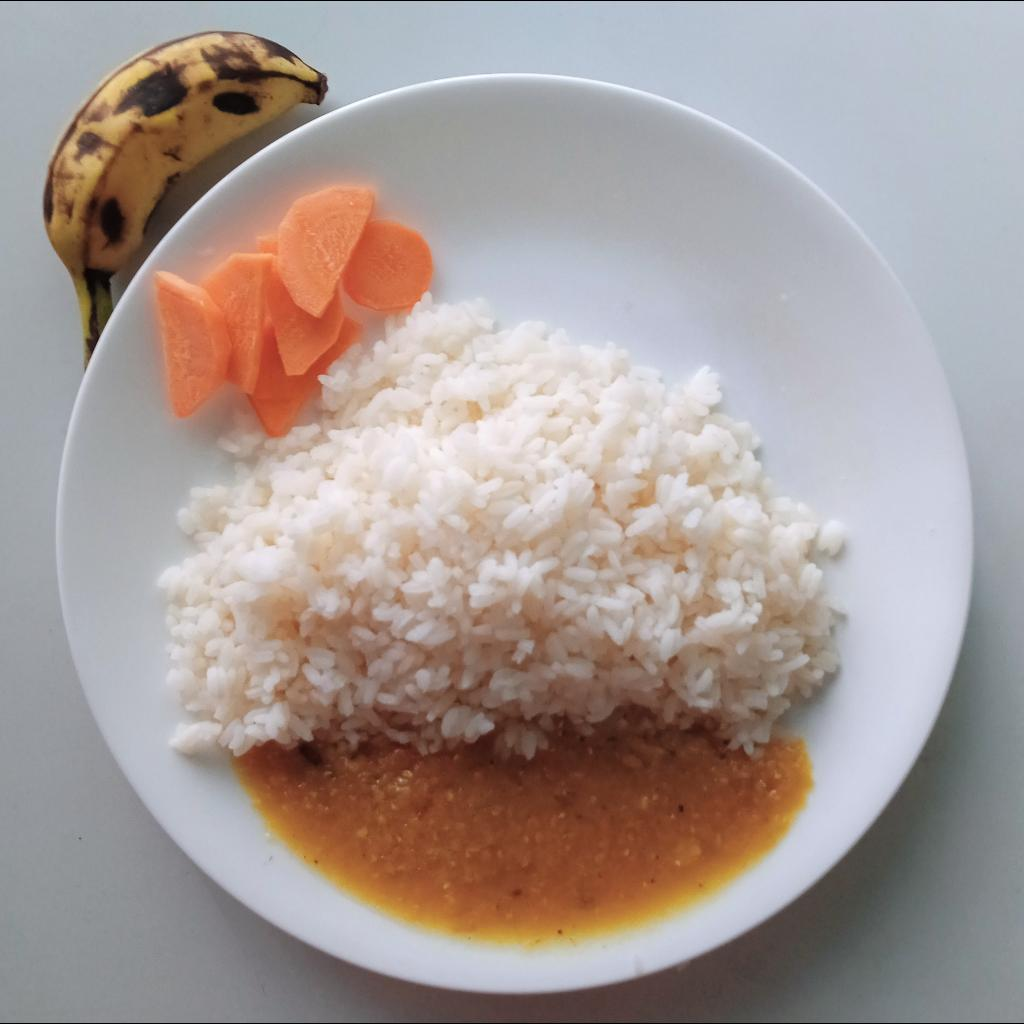banana: (44, 30, 329, 364)
carrot: (154, 189, 434, 436)
daal: (232, 720, 813, 944)
rice: (150, 297, 861, 759)
